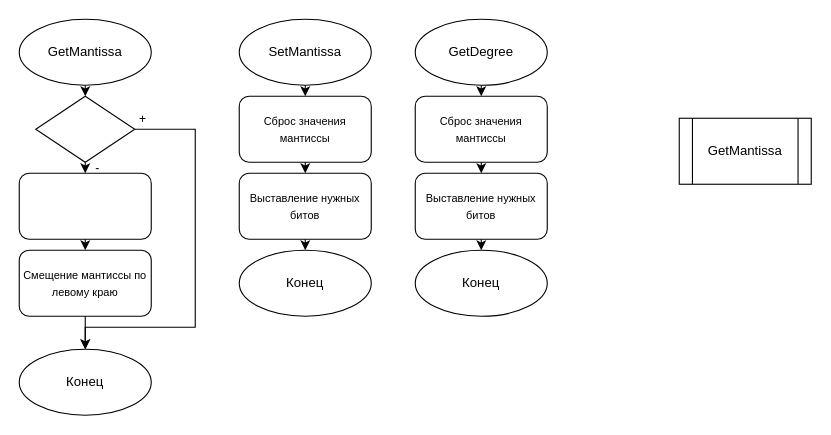
Some shapes in this 831 by 435 pixel diagram are drawn without their labels. The centre of each missing label's shape, as x and y in pixels:
Все биты равны 0?: the point at 85,128
Получение битов мантиссы и выставление 23 бита: the point at 84,205
